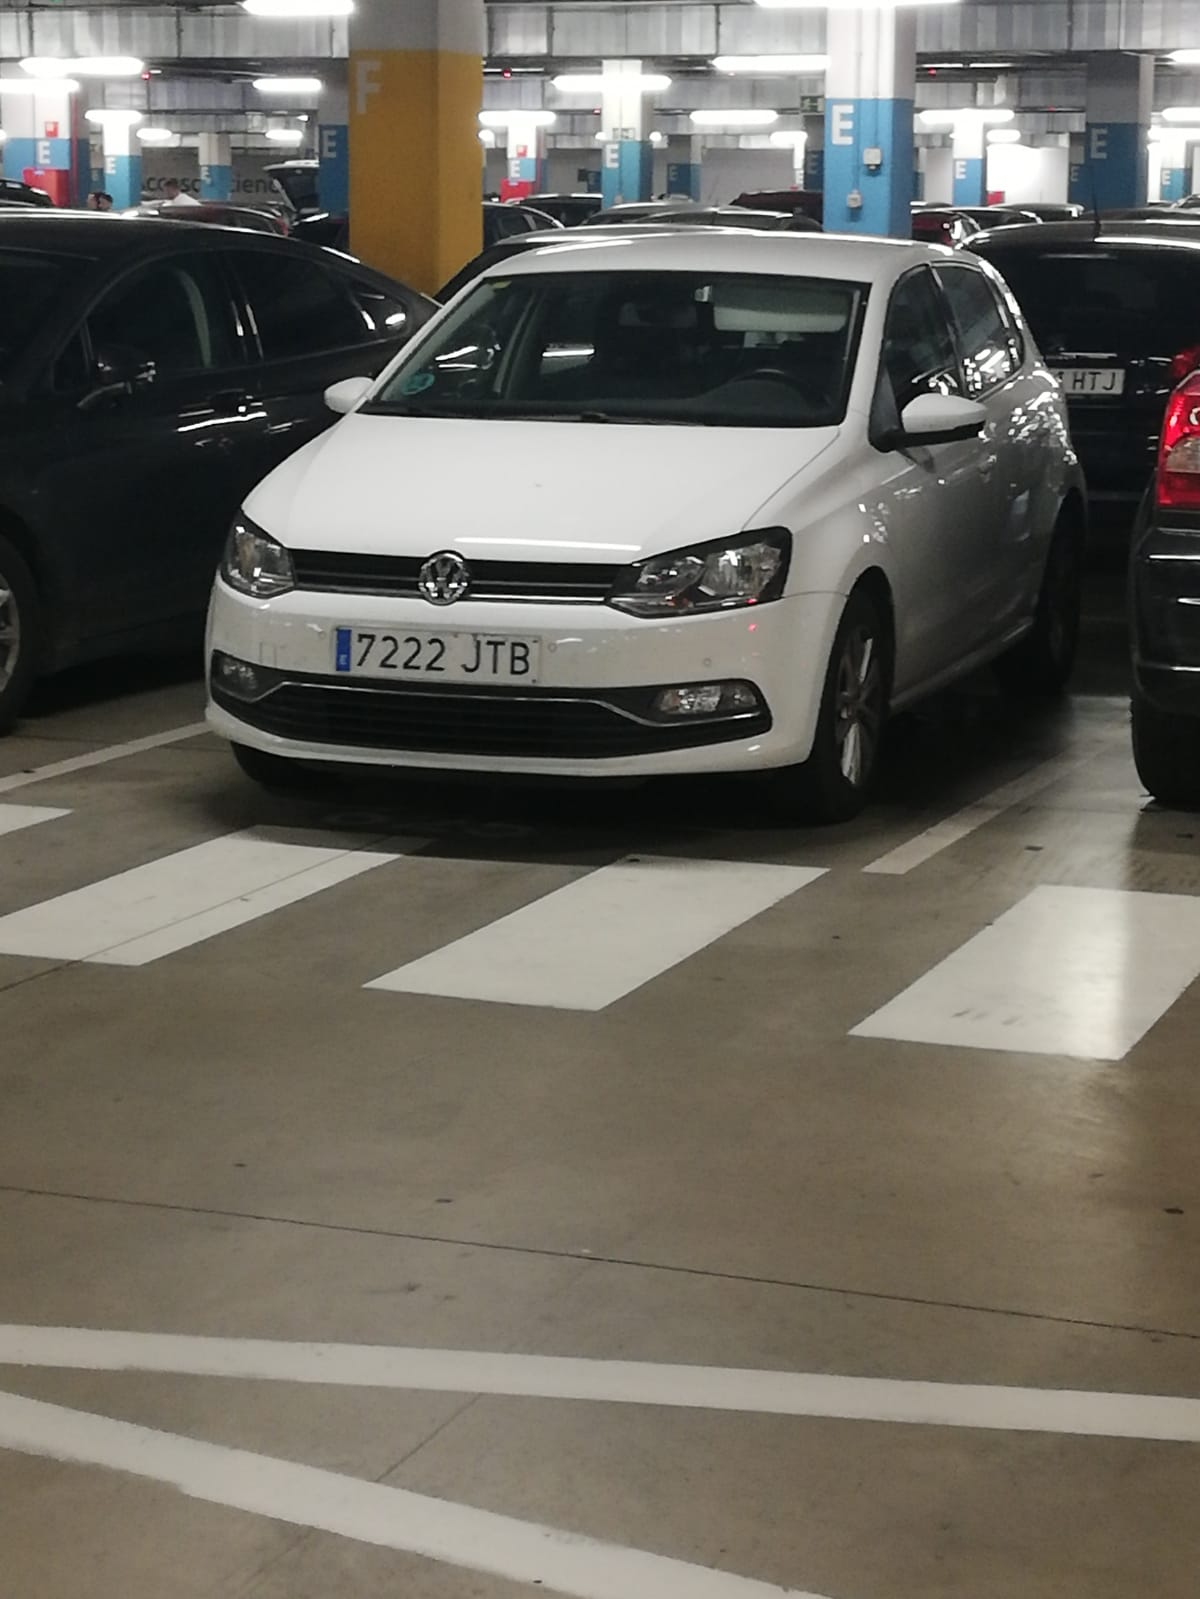Car: (195, 241, 1077, 827)
Plate: (330, 622, 540, 678)
